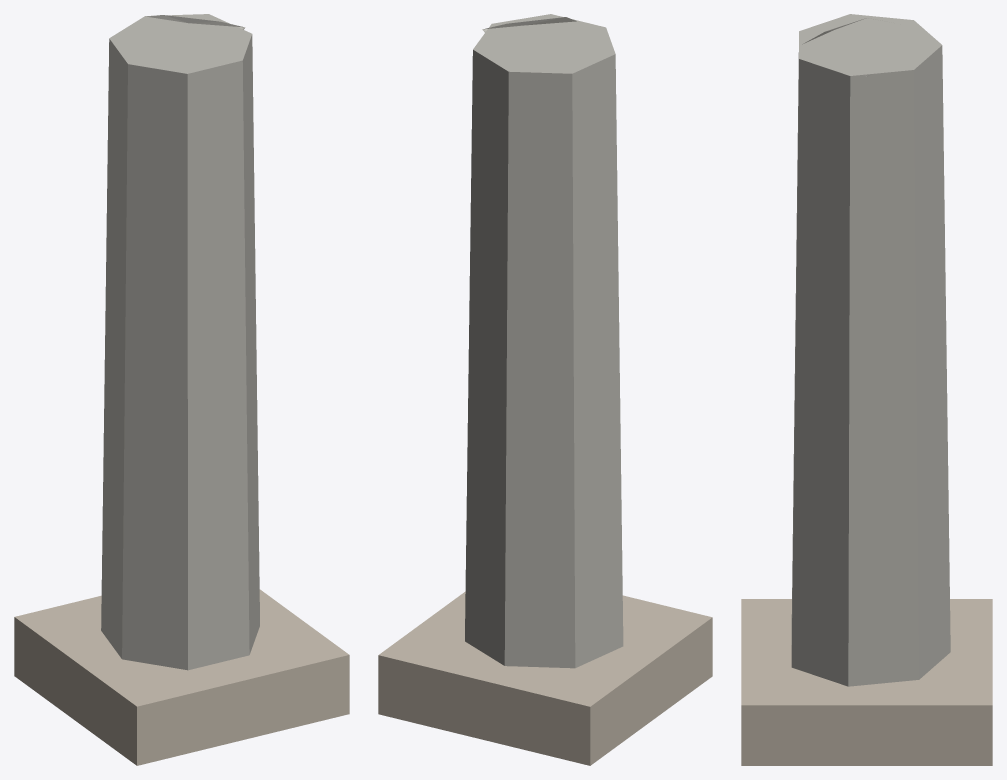
File: column_v22.glb
3 views of the same model, side by side, from view 1: azimuth 30°, elevation 25°; view 2: azimuth 150°, elevation 25°; view 3: azimuth 270°, elevation 25° (orthographic). The views are drawn at different scales.
Parts seen in each view (by area): view 1: lod0; view 2: lod0; view 3: lod0.
Part boxes in pixels (x1,y1,x2,y2): lod0: (14,14,349,765); lod0: (378,14,712,765); lod0: (741,14,992,765).
Size of what is drawn, in the model's own units: 0.6 by 1.83 by 0.6.
